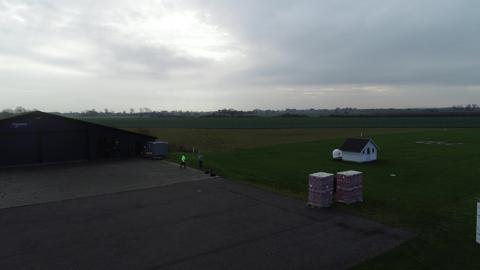RockwoolPallet: (334, 168, 361, 204)
